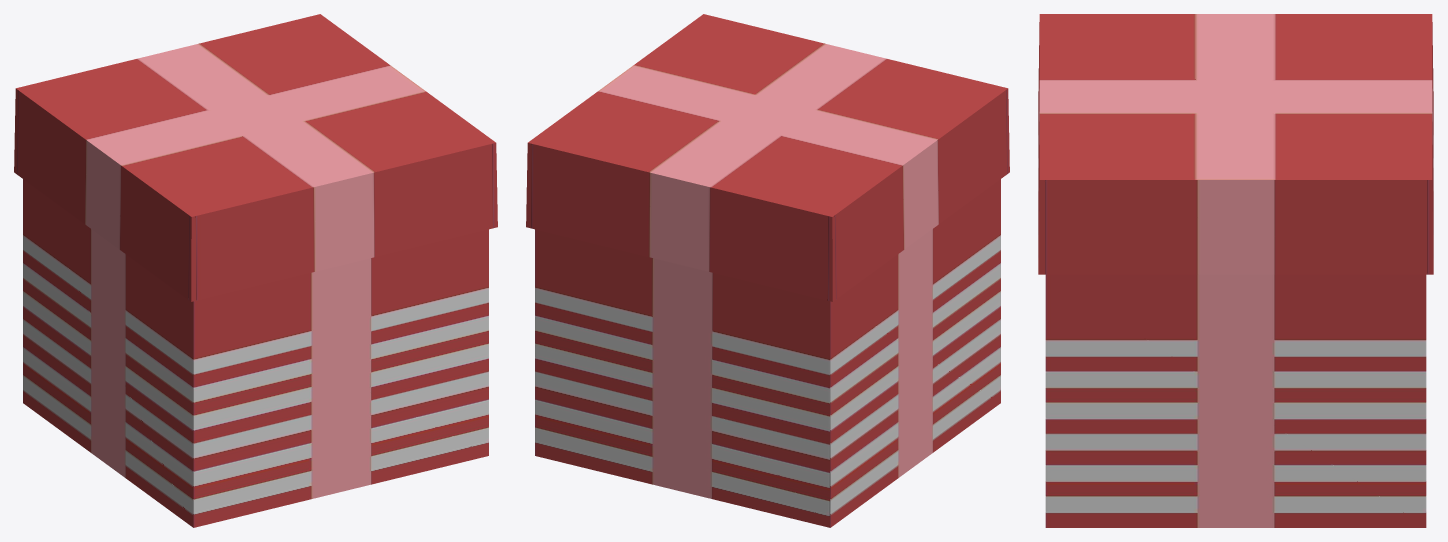
3 renders of one model, left to right at view 1: azimuth 30°, elevation 25°; view 2: azimuth 150°, elevation 25°; view 3: azimuth 270°, elevation 25°, orthographic. The views are drawn at different scales.
Parts seen in each view (by area): view 1: Cube.012; view 2: Cube.012; view 3: Cube.012.
Boxes of the visible parts, bbox=[...] form: Cube.012: bbox=[14, 14, 497, 527]; Cube.012: bbox=[526, 14, 1009, 527]; Cube.012: bbox=[1038, 14, 1433, 527].
Bounding box in the file's own units: 9623 × 9411 × 9623.
Materials: 5 (3 with a texture image).
